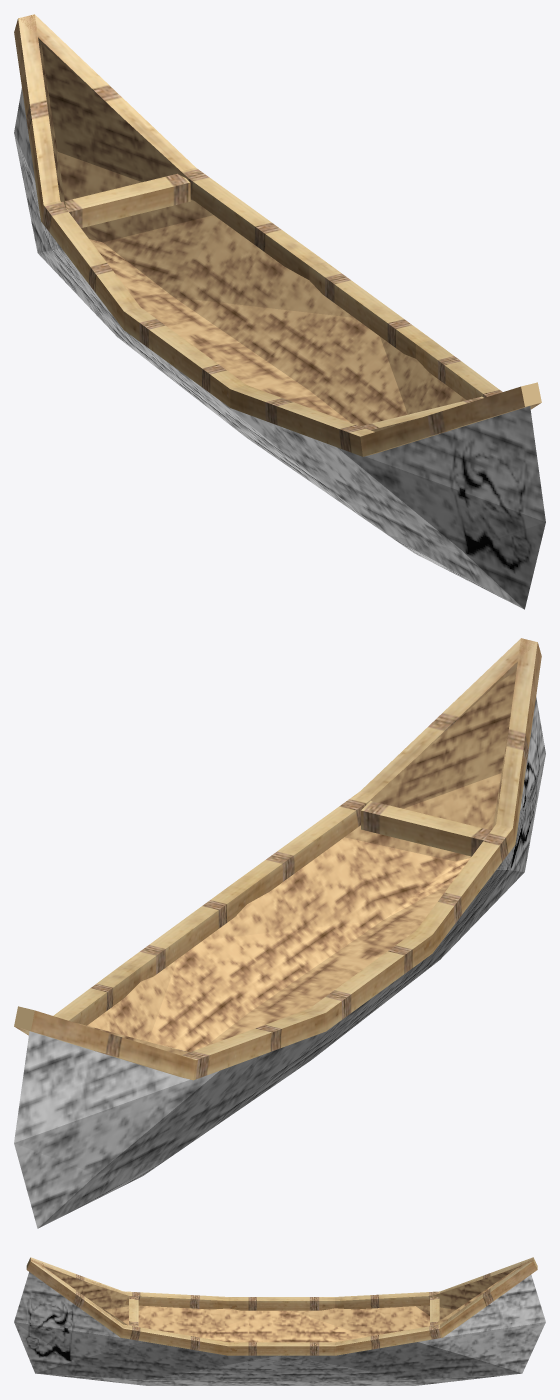
Rendered from indianvillage_bbcanoe.obj.
The picture shows the model from 3 angles, top to bottom: view 1: azimuth 30°, elevation 25°; view 2: azimuth 150°, elevation 25°; view 3: azimuth 270°, elevation 25°; orthographic projection. The views are drawn at different scales.
Parts seen in each view (by area): view 1: bbcanoe.001; view 2: bbcanoe.001; view 3: bbcanoe.001.
Boxes of the visible parts, x1,y1,x2,y2 form: bbcanoe.001: (14, 14, 545, 609); bbcanoe.001: (14, 638, 545, 1228); bbcanoe.001: (14, 1257, 545, 1385).
Size of the model in its own units: 11.94 by 14.28 by 54.38.
